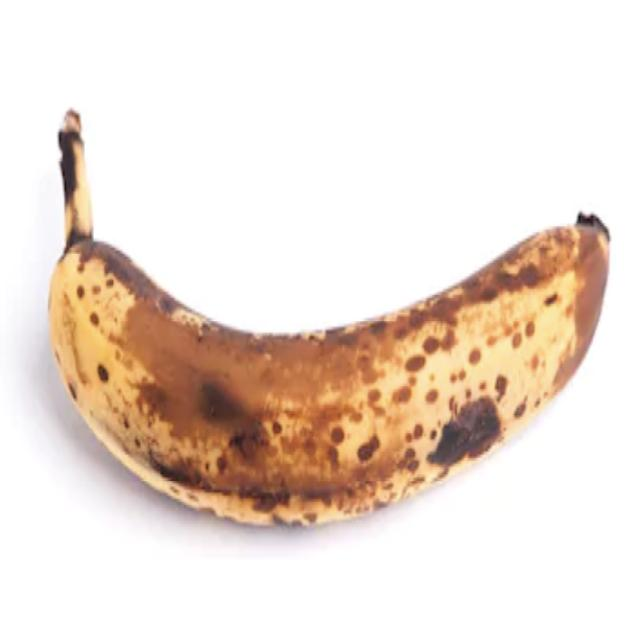rotten-banana: (46, 106, 611, 528)
